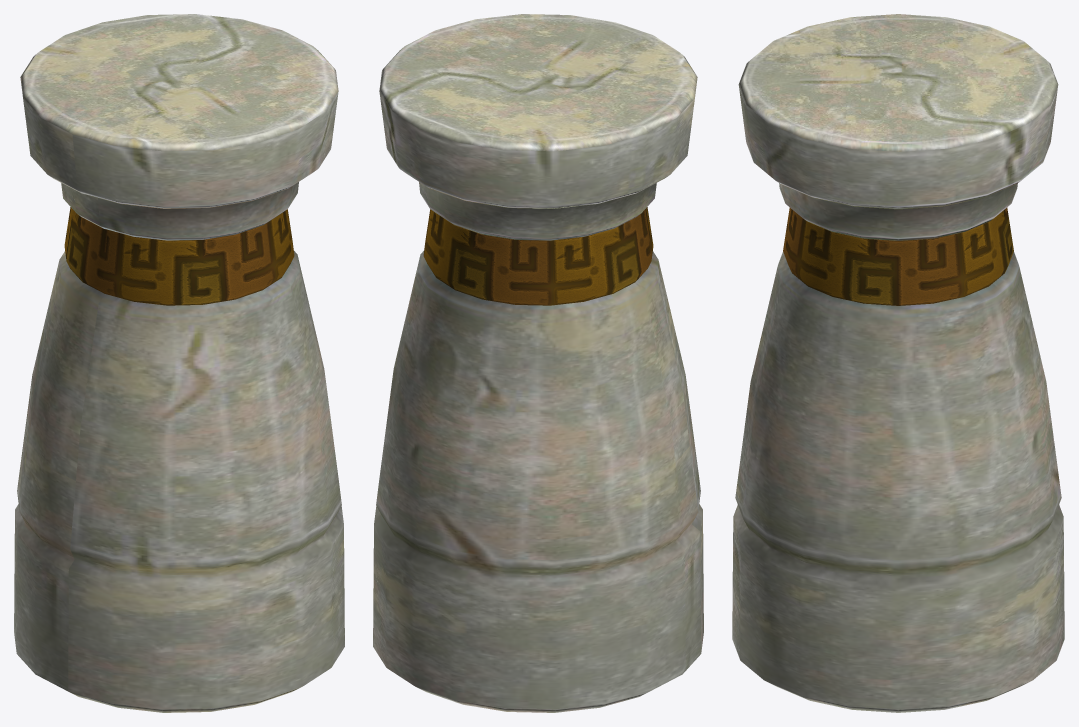
File: CollumnHinged_LP.fbx
The picture shows the model from 3 angles, left to right: view 1: azimuth 30°, elevation 25°; view 2: azimuth 150°, elevation 25°; view 3: azimuth 270°, elevation 25°; orthographic projection.
Visible parts, largest first — view 1: sm_block_collumn, goldStrip_geo; view 2: sm_block_collumn, goldStrip_geo; view 3: sm_block_collumn, goldStrip_geo.
Part boxes in pixels (<box>): sm_block_collumn: <box>14,14,344,712</box>; goldStrip_geo: <box>64,207,294,305</box>; sm_block_collumn: <box>373,14,703,712</box>; goldStrip_geo: <box>423,207,653,305</box>; sm_block_collumn: <box>732,14,1064,712</box>; goldStrip_geo: <box>783,207,1013,305</box>.
Bounding box in the file's own units: 1.06 × 2 × 1.06.
